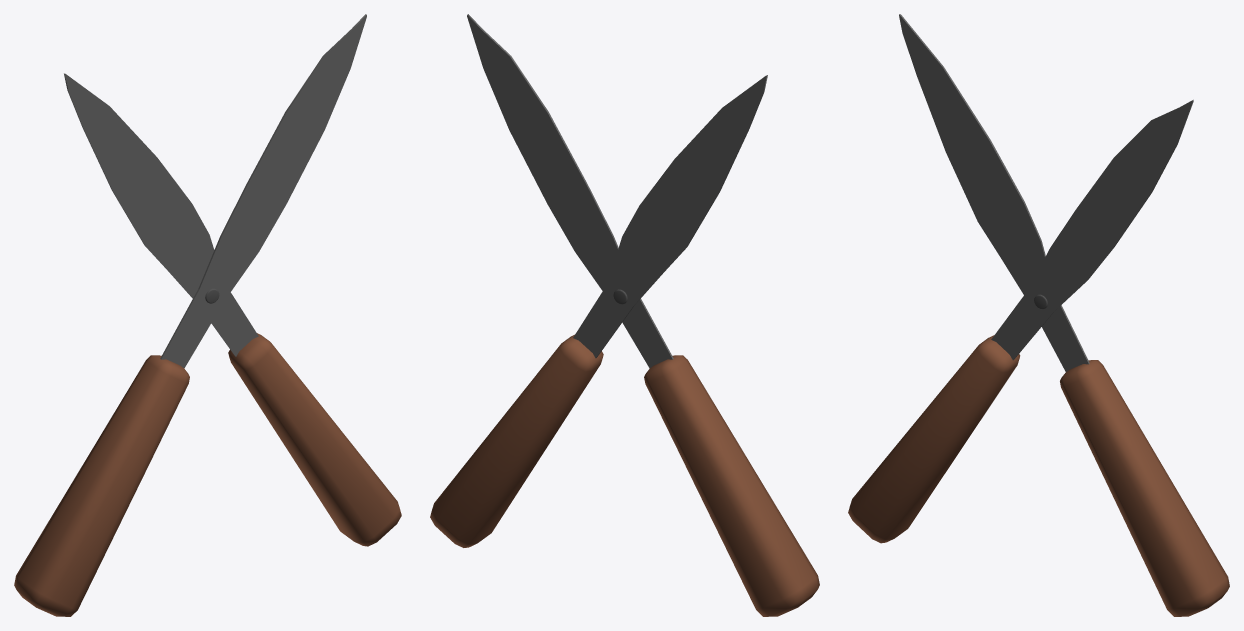
Rendered from Tool8.fbx.
3 renders of one model, left to right at view 1: azimuth 30°, elevation 25°; view 2: azimuth 150°, elevation 25°; view 3: azimuth 330°, elevation 25°, orthographic. The views are drawn at different scales.
Parts seen in each view (by area): view 1: Cube.061, Cube.064; view 2: Cube.061, Cube.064; view 3: Cube.064, Cube.061.
Part boxes in pixels (box(x1,y1,x2,y2)): Cube.061: box(14, 14, 366, 616); Cube.064: box(64, 73, 401, 546); Cube.061: box(467, 14, 819, 616); Cube.064: box(430, 75, 767, 547); Cube.064: box(899, 14, 1229, 616); Cube.061: box(848, 99, 1193, 543).
Bounding box in the file's own units: 0.519 × 0.0755 × 0.7199.
